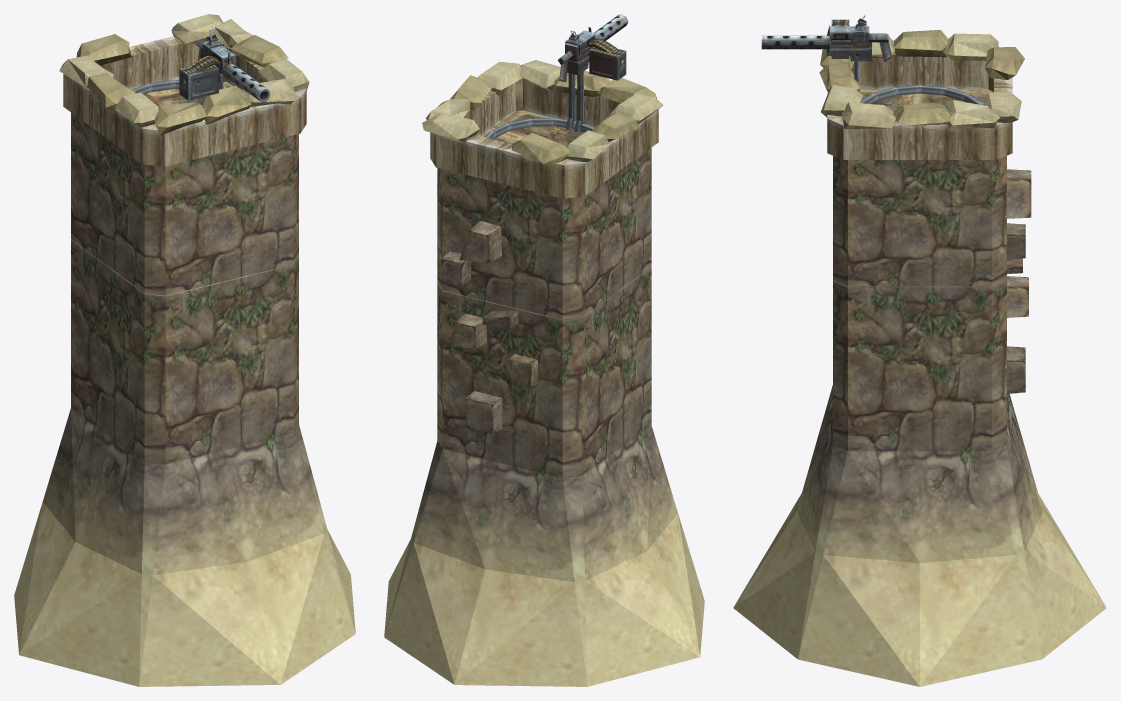
File: C3SMGUNTWH.obj
3 views of the same model, side by side, from view 1: azimuth 30°, elevation 25°; view 2: azimuth 150°, elevation 25°; view 3: azimuth 270°, elevation 25° (orthographic). The views are drawn at different scales.
Parts seen in each view (by area): view 1: Node 0, Node 12, Node 9, Node 13, Node 5; view 2: Node 0, Node 12, Node 9, Node 13, Node 11, Node 5, Node 10, Node 3; view 3: Node 0, Node 12, Node 9, Node 13, Node 5, Node 11, Node 10.
Part boxes in pixels (box(x1,y1,x2,y2)): Node 0: box(14, 239, 355, 686); Node 12: box(63, 36, 306, 295); Node 9: box(171, 14, 309, 124); Node 13: box(59, 34, 207, 135); Node 5: box(179, 28, 270, 102); Node 0: box(384, 267, 704, 686); Node 12: box(430, 79, 658, 319); Node 9: box(422, 60, 610, 142); Node 13: box(512, 78, 663, 167); Node 11: box(449, 310, 537, 434); Node 5: box(558, 14, 628, 81); Node 10: box(441, 220, 501, 285); Node 3: box(566, 71, 585, 132); Node 0: box(733, 280, 1106, 686); Node 12: box(827, 52, 1012, 286); Node 9: box(819, 62, 1021, 128); Node 13: box(820, 30, 1024, 79); Node 5: box(761, 14, 892, 62); Node 11: box(1007, 258, 1028, 393); Node 10: box(1007, 169, 1031, 259).
Bounding box in the file's own units: 5.76 × 10.07 × 5.76.
14 materials, 14 textured.
